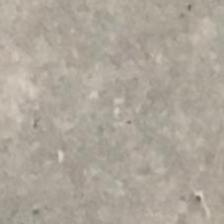Non_Crack: (12, 25, 220, 178)
